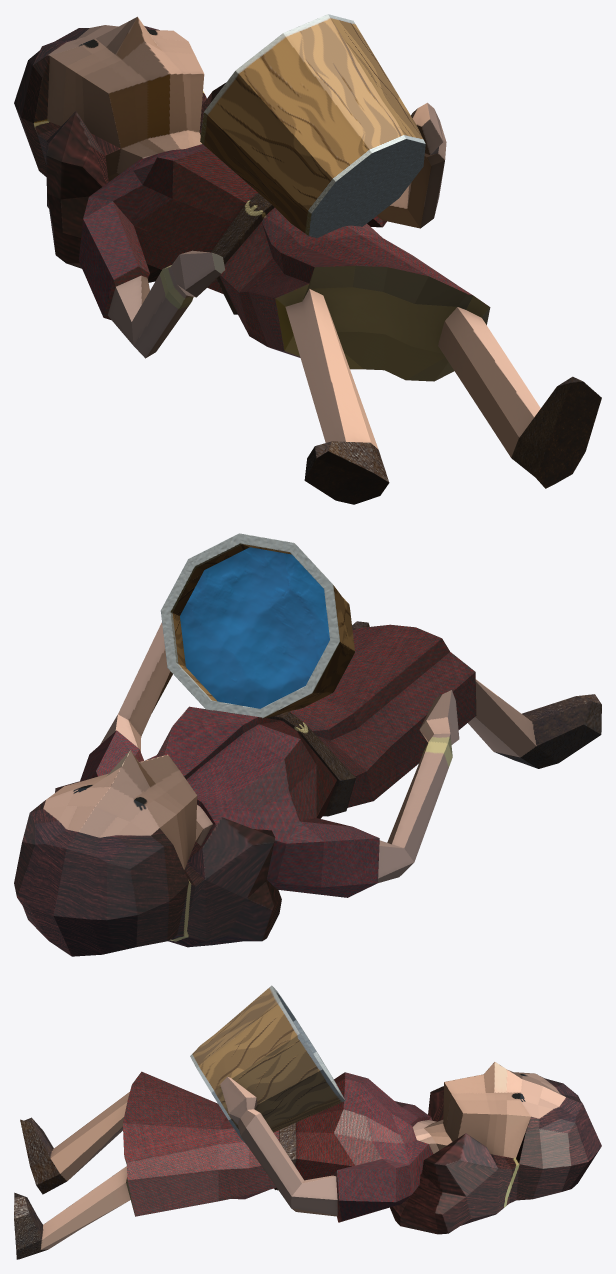
Rendered from Walk_Aldeana_1.obj.
3 renders of one model, top to bottom at view 1: azimuth 30°, elevation 25°; view 2: azimuth 150°, elevation 25°; view 3: azimuth 270°, elevation 25°, orthographic. The views are drawn at different scales.
Visible parts, largest first — view 1: Aldeana.001; view 2: Aldeana.001; view 3: Aldeana.001.
Part boxes in pixels (bbox=[...]): Aldeana.001: bbox=[14, 14, 601, 504]; Aldeana.001: bbox=[14, 533, 601, 956]; Aldeana.001: bbox=[14, 985, 601, 1259].
Bounding box in the file's own units: 1.04 × 1.09 × 2.36.
